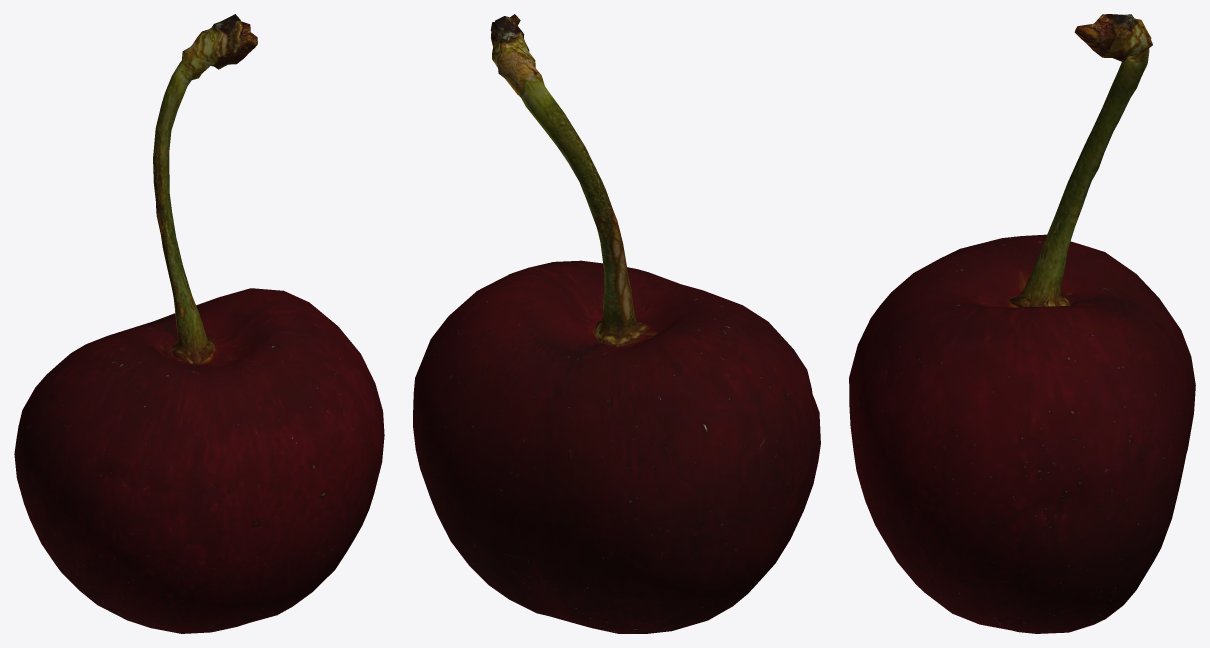
Rendered from cherry.glb.
3 views of the same model, side by side, from view 1: azimuth 30°, elevation 25°; view 2: azimuth 150°, elevation 25°; view 3: azimuth 270°, elevation 25° (orthographic). The views are drawn at different scales.
Parts seen in each view (by area): view 1: Cherry; view 2: Cherry; view 3: Cherry.
Boxes of the visible parts, <box> form: Cherry: <box>14,14,384,633</box>; Cherry: <box>413,14,820,633</box>; Cherry: <box>849,14,1195,633</box>.
Size of the model in its own units: 1.35 by 2.16 by 1.08.
Materials: 1 (1 with a texture image).
